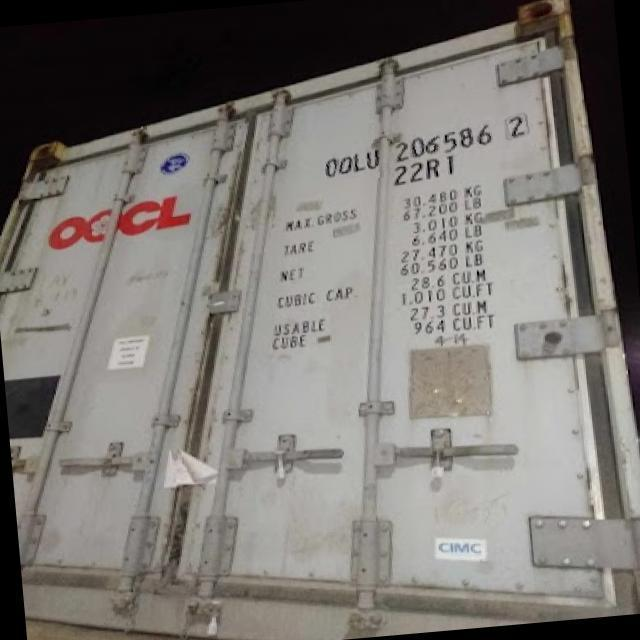ISO: (394, 158, 452, 182)
container_number: (326, 123, 514, 166)
